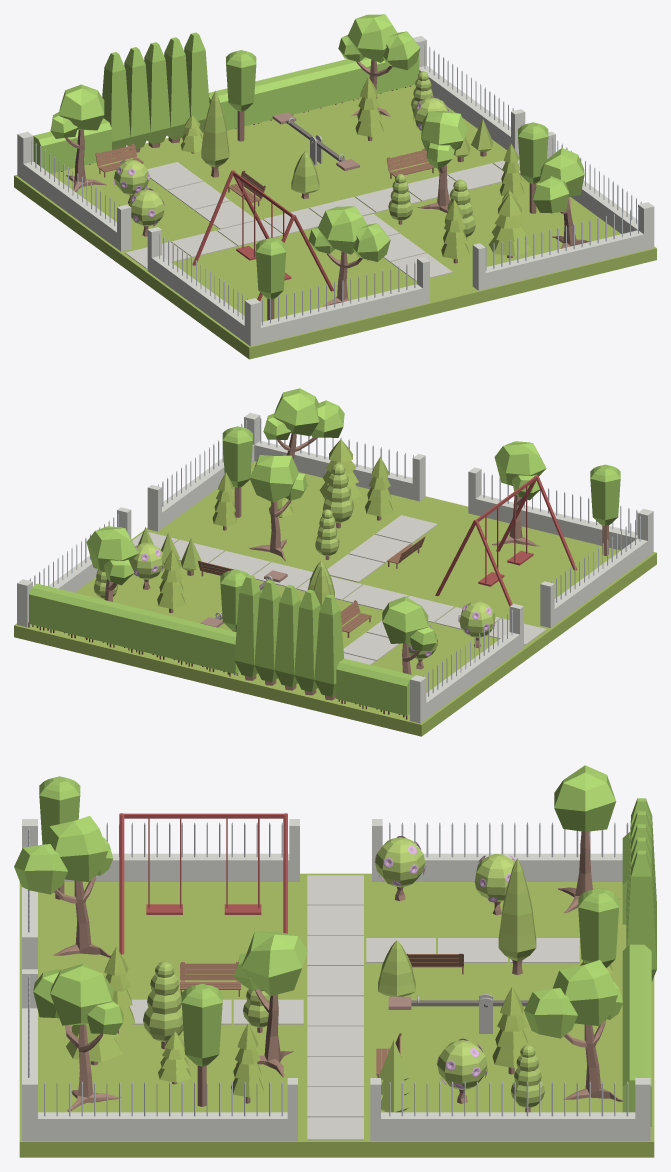
The model's file is park.fbx.
The picture shows the model from 3 angles, top to bottom: view 1: azimuth 30°, elevation 25°; view 2: azimuth 150°, elevation 25°; view 3: azimuth 270°, elevation 25°; orthographic projection. The views are drawn at different scales.
Parts seen in each view (by area): view 1: pCylinder2; view 2: pCylinder2; view 3: pCylinder2.
Boxes of the visible parts, box(x1,y1,x2,y2) form: pCylinder2: box(14, 14, 656, 359); pCylinder2: box(14, 388, 656, 736); pCylinder2: box(14, 765, 656, 1157).
Bounding box in the file's own units: 149 × 151 × 39.71.
